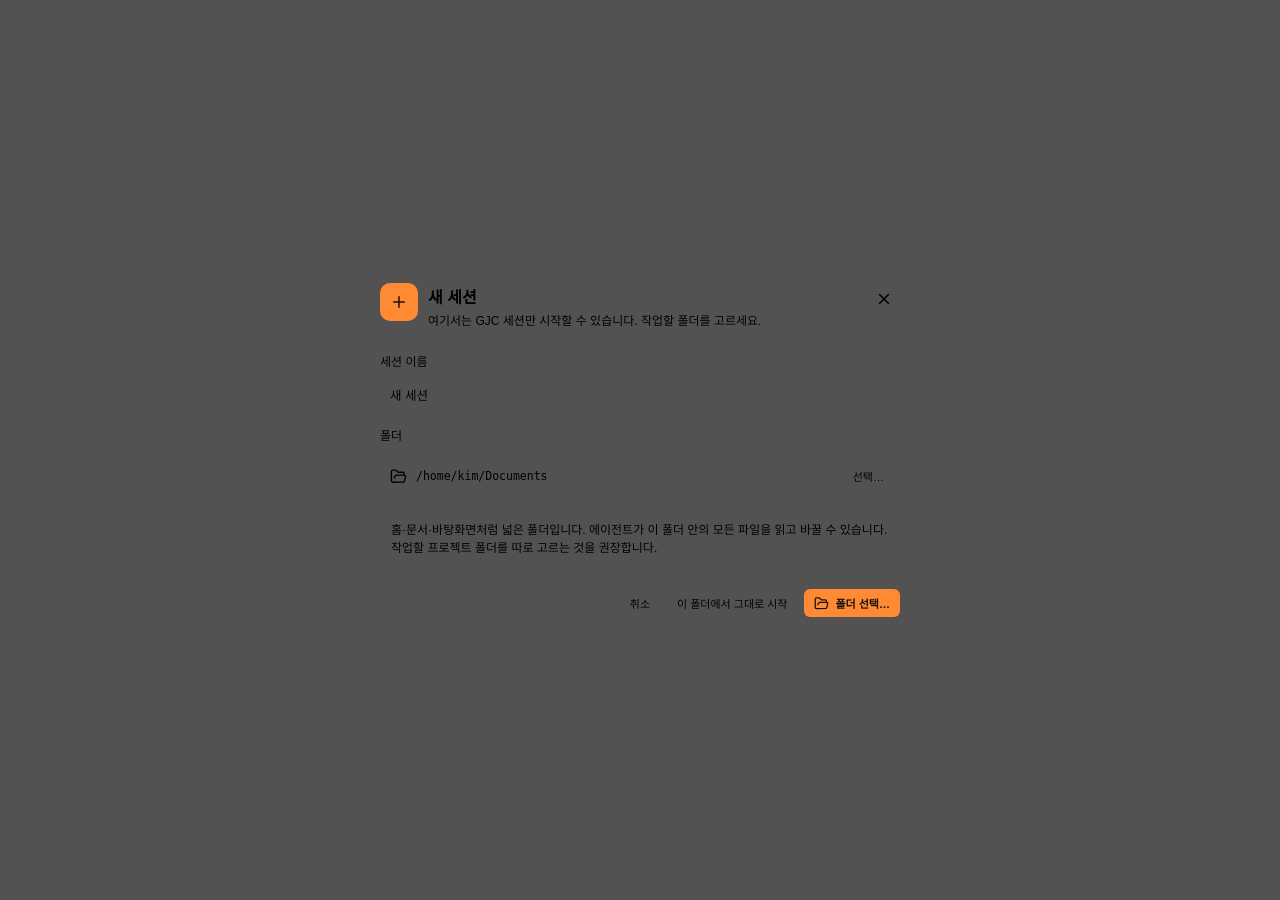
Scenario: a broad project folder › returns to the plain create button once a project folder is chosen
Later steps or results of the test are not shown.
Click the button "폴더 선택…" at {"x": 852, "y": 603}, box [804, 589, 900, 617]
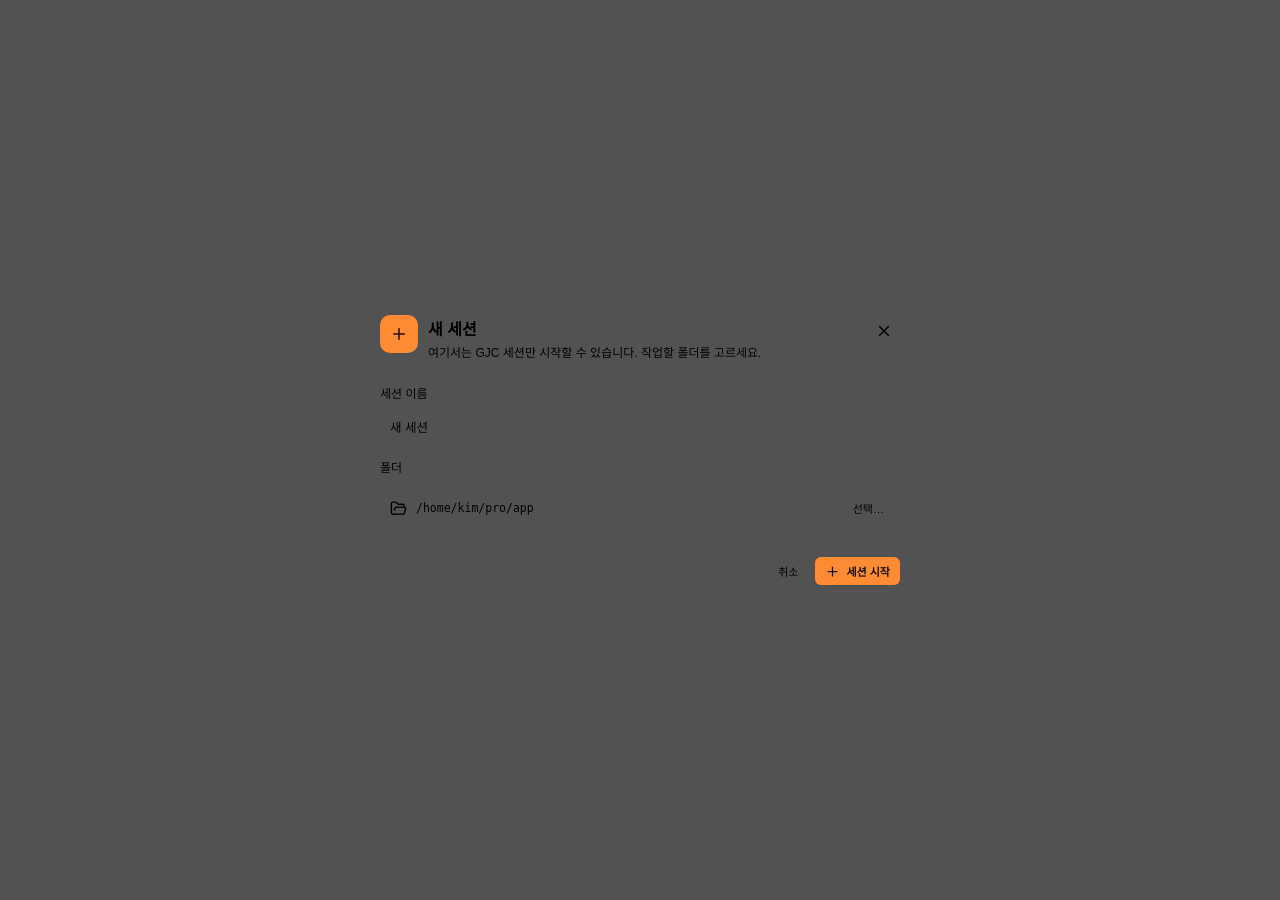
Expected: the message with class "broad-workspace-warning" is gone
